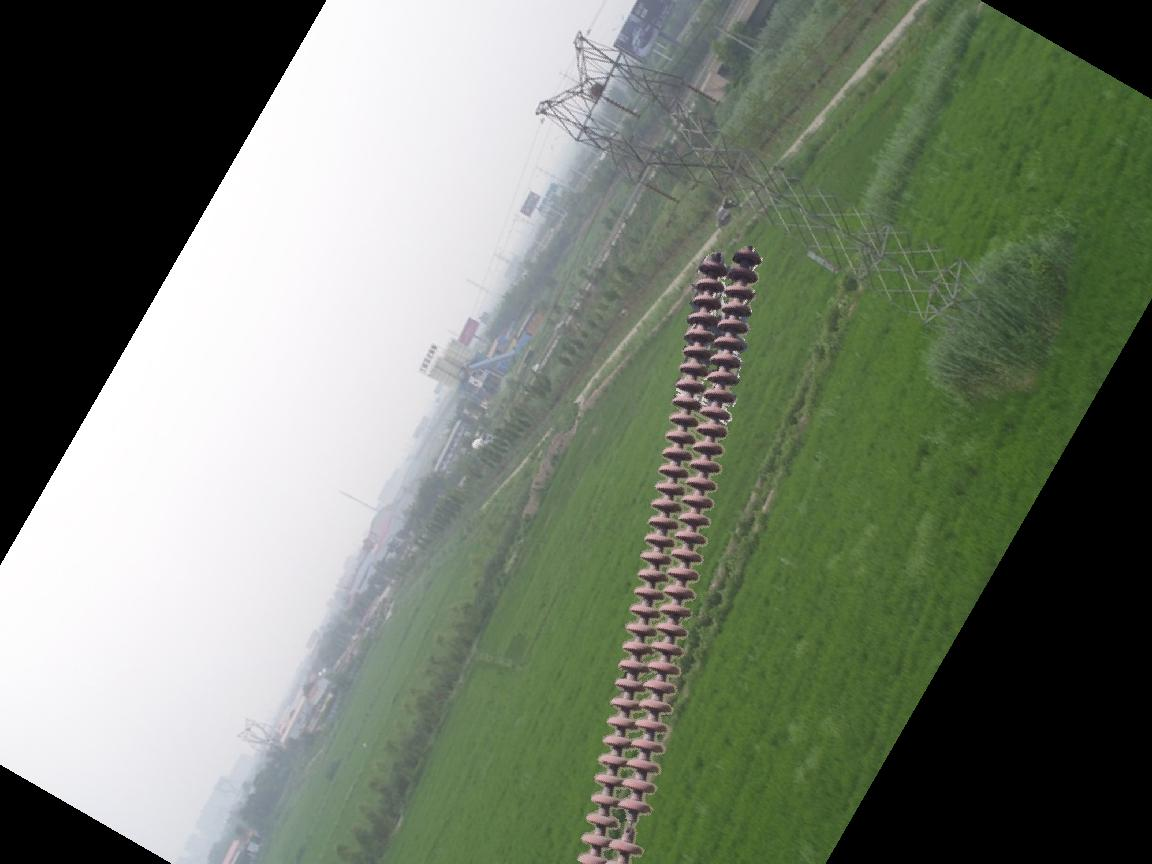insulator: (571, 236, 766, 864)
insulator_stringdrop: (606, 796, 658, 861)
